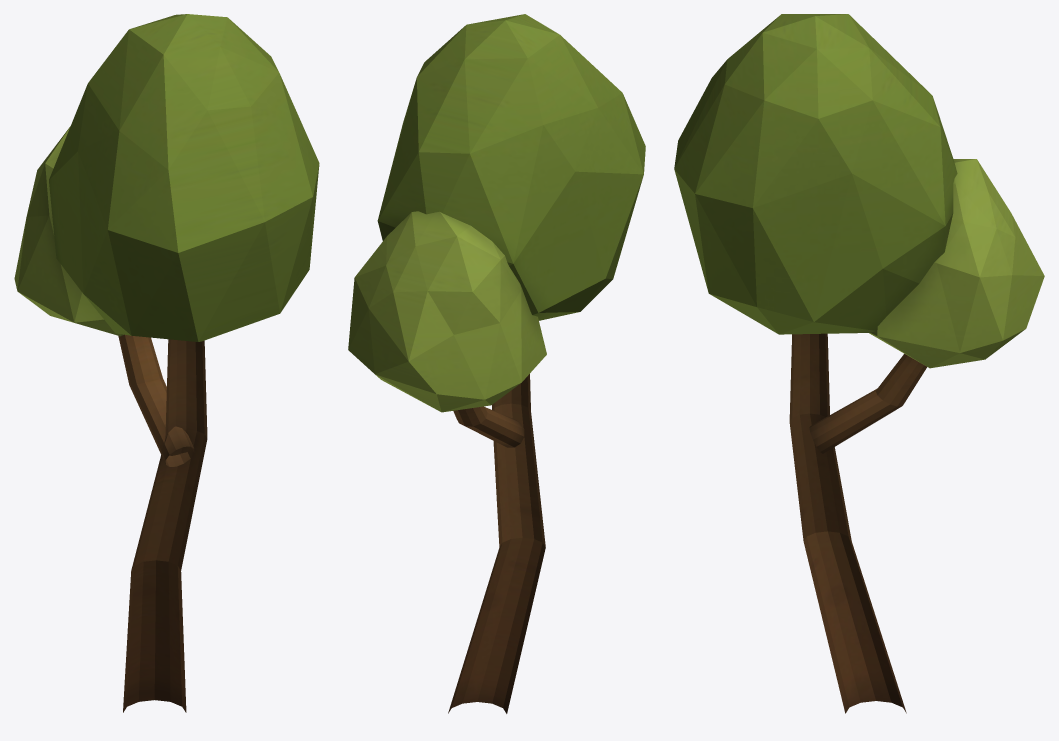
The model's file is beech_tree2_ao.gltf.
The picture shows the model from 3 angles, left to right: view 1: azimuth 30°, elevation 25°; view 2: azimuth 150°, elevation 25°; view 3: azimuth 270°, elevation 25°; orthographic projection. The views are drawn at different scales.
Parts seen in each view (by area): view 1: Beechtree2; view 2: Beechtree2; view 3: Beechtree2.
Part boxes in pixels (x1,y1,x2,y2): Beechtree2: [14, 14, 319, 712]; Beechtree2: [348, 14, 645, 713]; Beechtree2: [674, 14, 1044, 713].
Size of the model in its own units: 4.68 by 14.77 by 7.1.
Materials: 1 (1 with a texture image).
